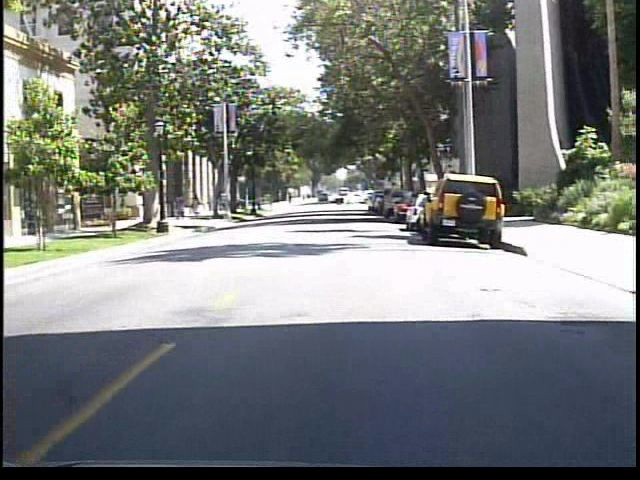person: (183, 192, 203, 224), (168, 188, 185, 222)
